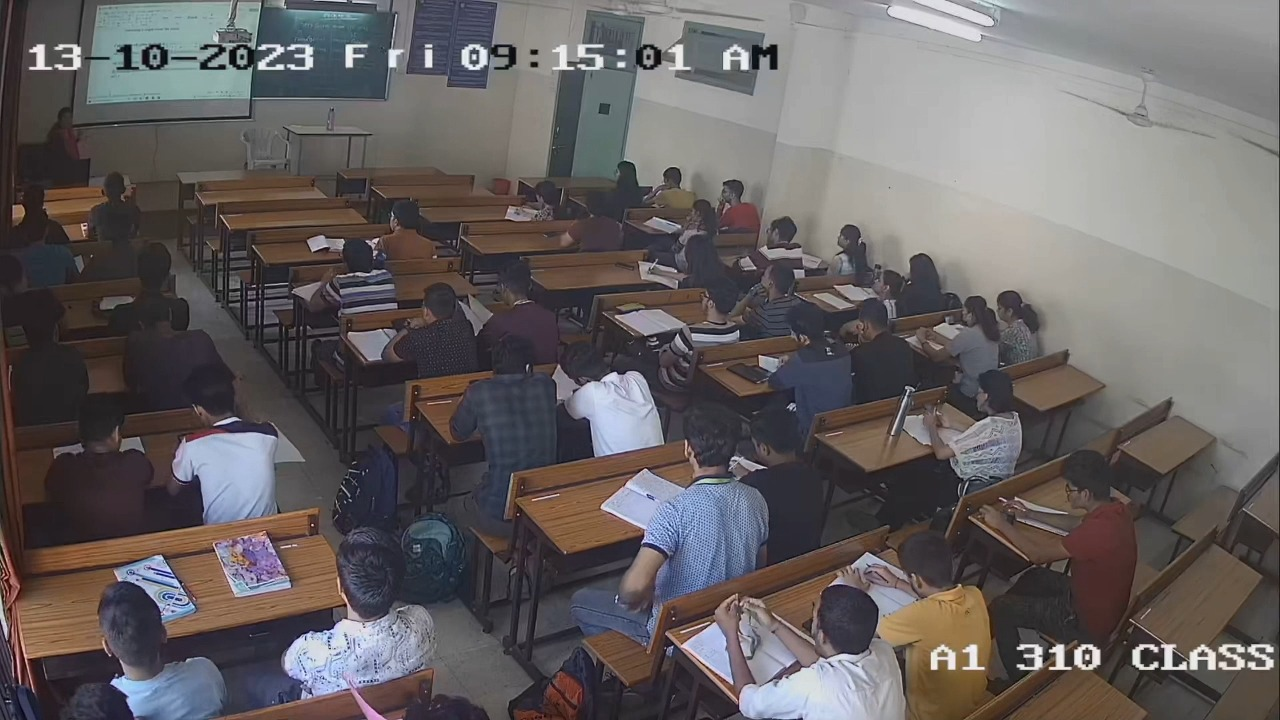cell-phones: (922, 399, 944, 428), (389, 315, 414, 334), (613, 301, 646, 314), (613, 260, 636, 272), (541, 229, 560, 240)
person: (928, 369, 1023, 475), (383, 281, 479, 371), (678, 281, 742, 345), (560, 190, 621, 250), (670, 235, 730, 286)
